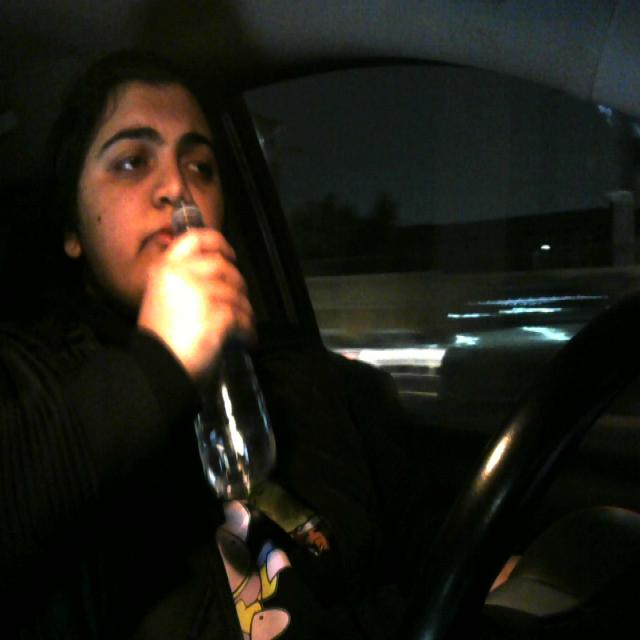drinking: (148, 196, 290, 503)
